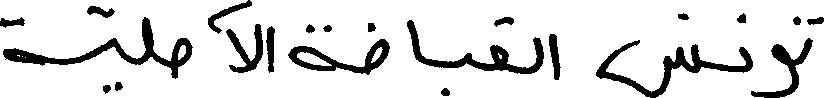X: (599, 8, 698, 97), (752, 11, 797, 97), (289, 19, 332, 75), (0, 12, 38, 68), (233, 0, 260, 77), (368, 18, 387, 79), (803, 12, 823, 66), (491, 12, 506, 75), (108, 3, 118, 96), (174, 33, 189, 83), (740, 8, 750, 77), (408, 15, 420, 66), (144, 12, 152, 66), (551, 29, 558, 84), (534, 32, 542, 77), (267, 21, 273, 77), (464, 48, 470, 69)
